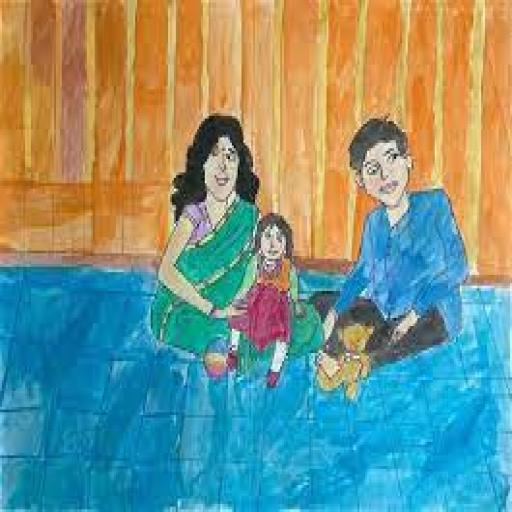person: (320, 108, 472, 366), (134, 110, 257, 375), (215, 211, 304, 387)
